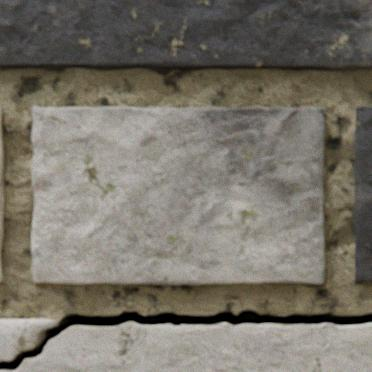brick: (32, 107, 324, 285), (0, 0, 371, 72), (353, 107, 371, 282), (0, 108, 4, 282)
broken_brick: (0, 321, 371, 371), (0, 319, 58, 360)
crack: (0, 308, 371, 370)
